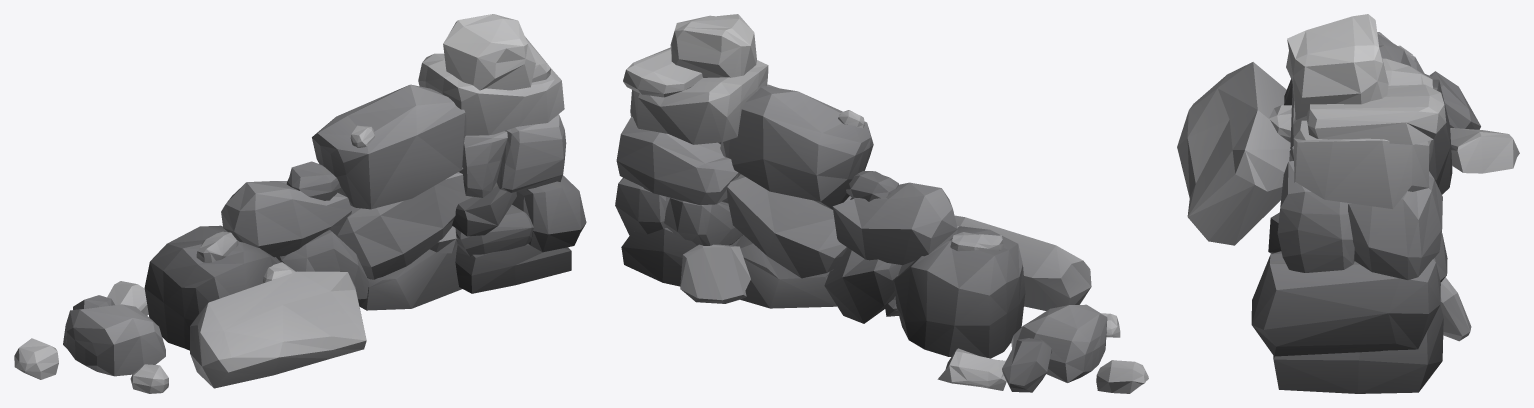
The model's file is RoadFenceStone_Damagedl-02.FBX.
The picture shows the model from 3 angles, left to right: view 1: azimuth 30°, elevation 25°; view 2: azimuth 150°, elevation 25°; view 3: azimuth 270°, elevation 25°; orthographic projection. The views are drawn at different scales.
Visible parts, largest first — view 1: RoadFenceStone_Damagedl-02; view 2: RoadFenceStone_Damagedl-02; view 3: RoadFenceStone_Damagedl-02.
Part boxes in pixels (left/top/right/bottom): RoadFenceStone_Damagedl-02: left=14, top=14, right=586, bottom=393; RoadFenceStone_Damagedl-02: left=615, top=14, right=1148, bottom=393; RoadFenceStone_Damagedl-02: left=1177, top=14, right=1519, bottom=393.
Bounding box in the file's own units: 308 × 144 × 131.
1 material, 1 textured.
